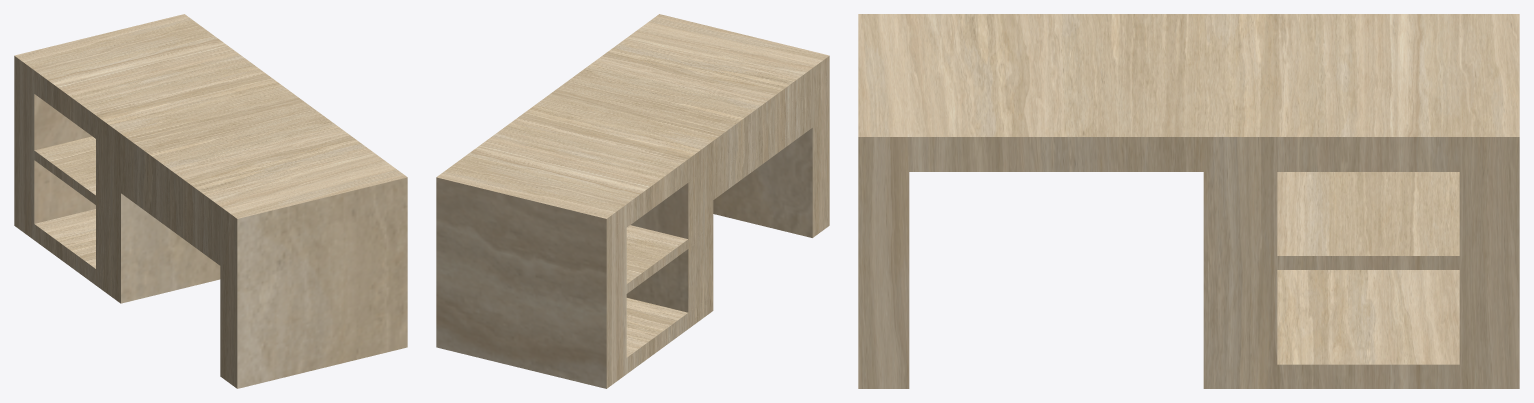
The model's file is Desk.fbx.
The picture shows the model from 3 angles, left to right: view 1: azimuth 30°, elevation 25°; view 2: azimuth 150°, elevation 25°; view 3: azimuth 270°, elevation 25°; orthographic projection. The views are drawn at different scales.
Visible parts, largest first — view 1: Desk; view 2: Desk; view 3: Desk.
Boxes of the visible parts, box(x1,y1,x2,y2) form: Desk: box(14, 14, 407, 388); Desk: box(436, 14, 829, 388); Desk: box(858, 14, 1519, 388).
Size of the model in its own units: 353 by 156 by 148.
Materials: 1 (1 with a texture image).
